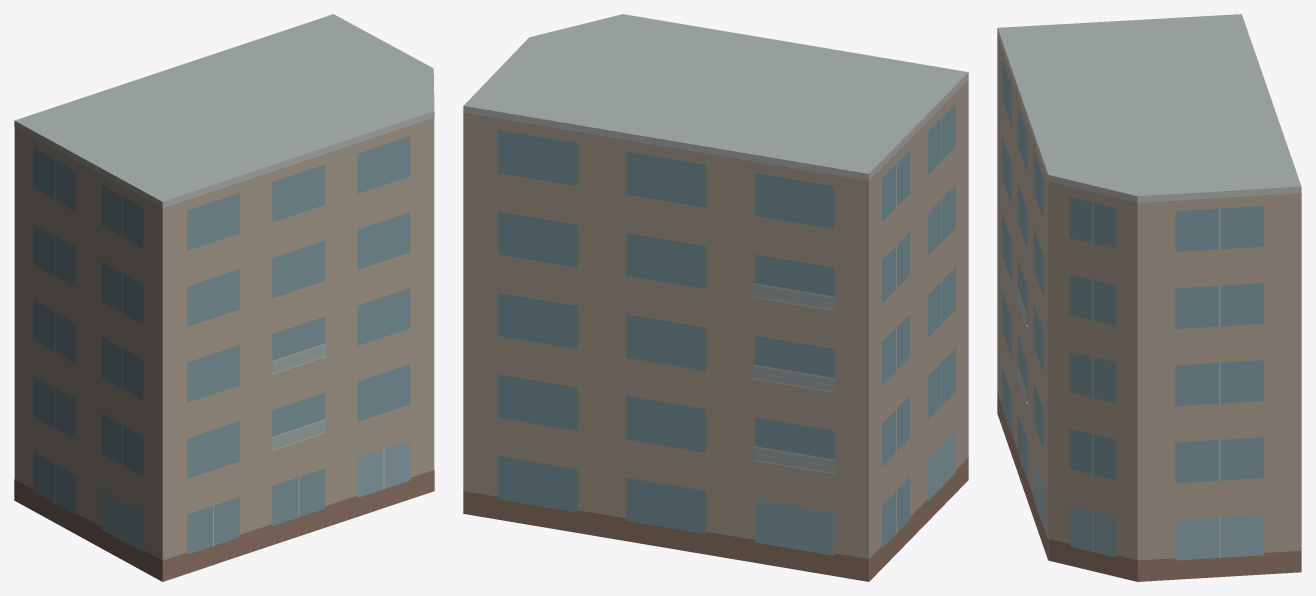
Rendered from survey-upis-33002934.glb.
3 views of the same model, side by side, from view 1: azimuth 30°, elevation 25°; view 2: azimuth 150°, elevation 25°; view 3: azimuth 270°, elevation 25° (orthographic). The views are drawn at different scales.
Parts seen in each view (by area): view 1: survey-upis-33002934.tmp; view 2: survey-upis-33002934.tmp; view 3: survey-upis-33002934.tmp.
Boxes of the visible parts, box(x1,y1,x2,y2) form: survey-upis-33002934.tmp: box(14, 14, 434, 581); survey-upis-33002934.tmp: box(463, 14, 968, 581); survey-upis-33002934.tmp: box(997, 14, 1301, 581).
Bounding box in the file's own units: 14.5 × 14.3 × 10.23.
